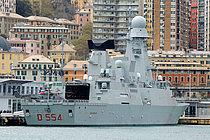MIL_Ship: (22, 15, 191, 126)
